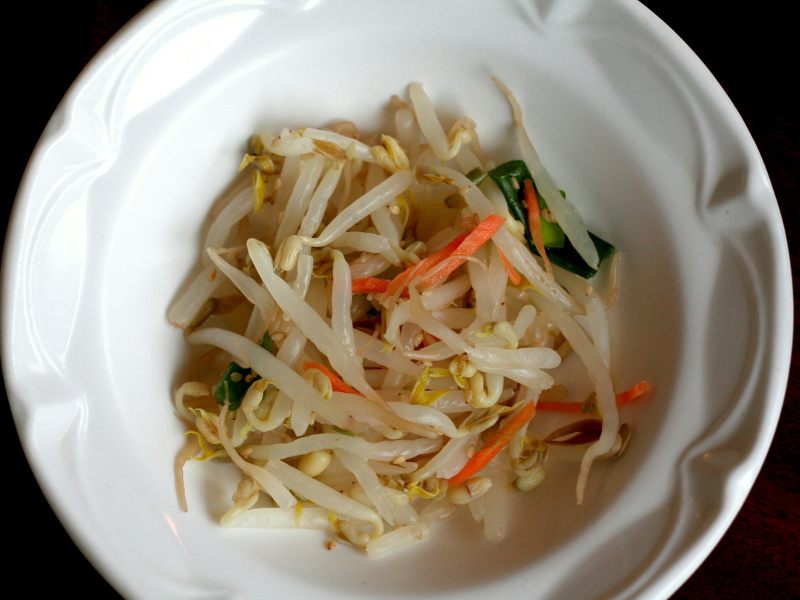mung_bean_sprouts: (234, 130, 591, 477)
